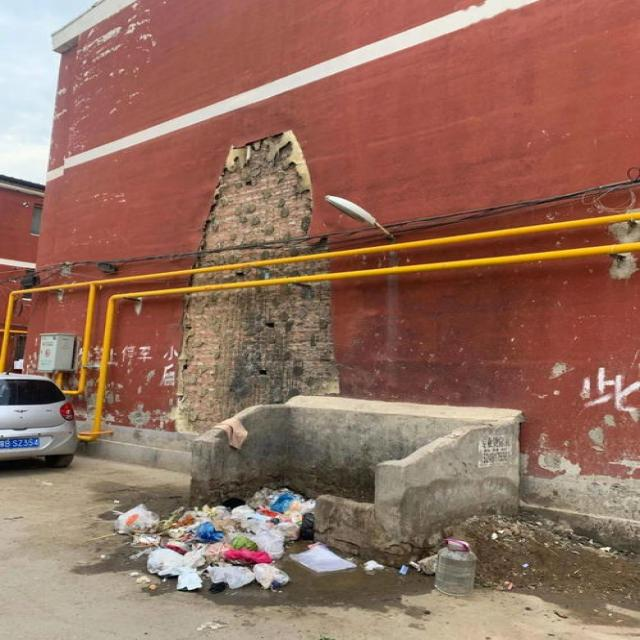overflow: (114, 486, 410, 594)
